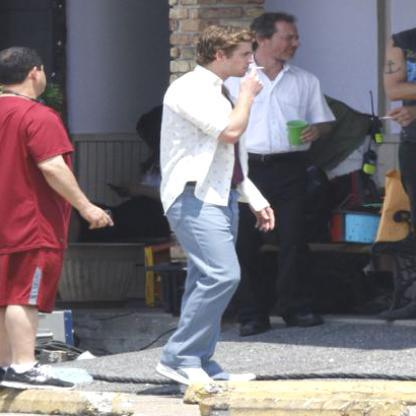cigarette: (245, 64, 268, 71)
person: (144, 23, 272, 391), (0, 39, 89, 399), (235, 8, 320, 340)
